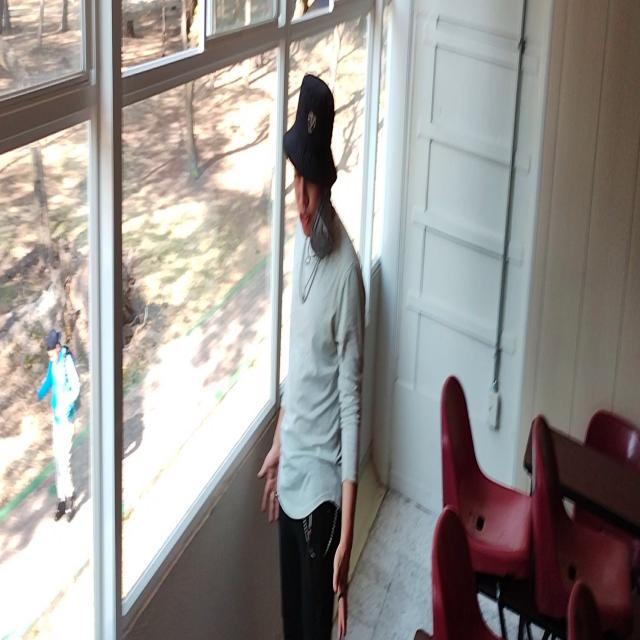adult: (256, 72, 360, 640), (33, 329, 81, 521)
